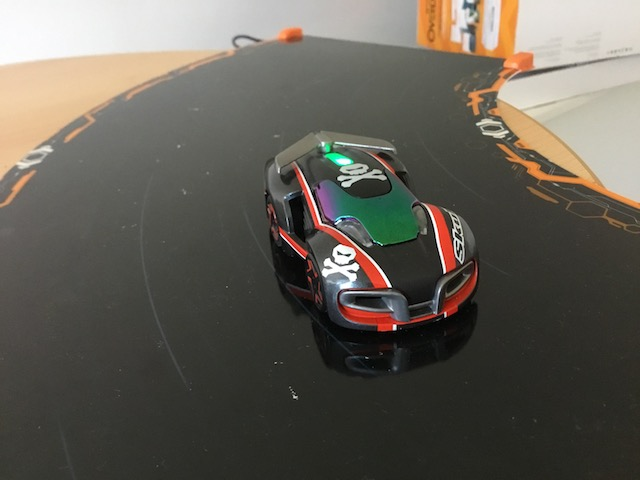car-red: (259, 127, 485, 340)
